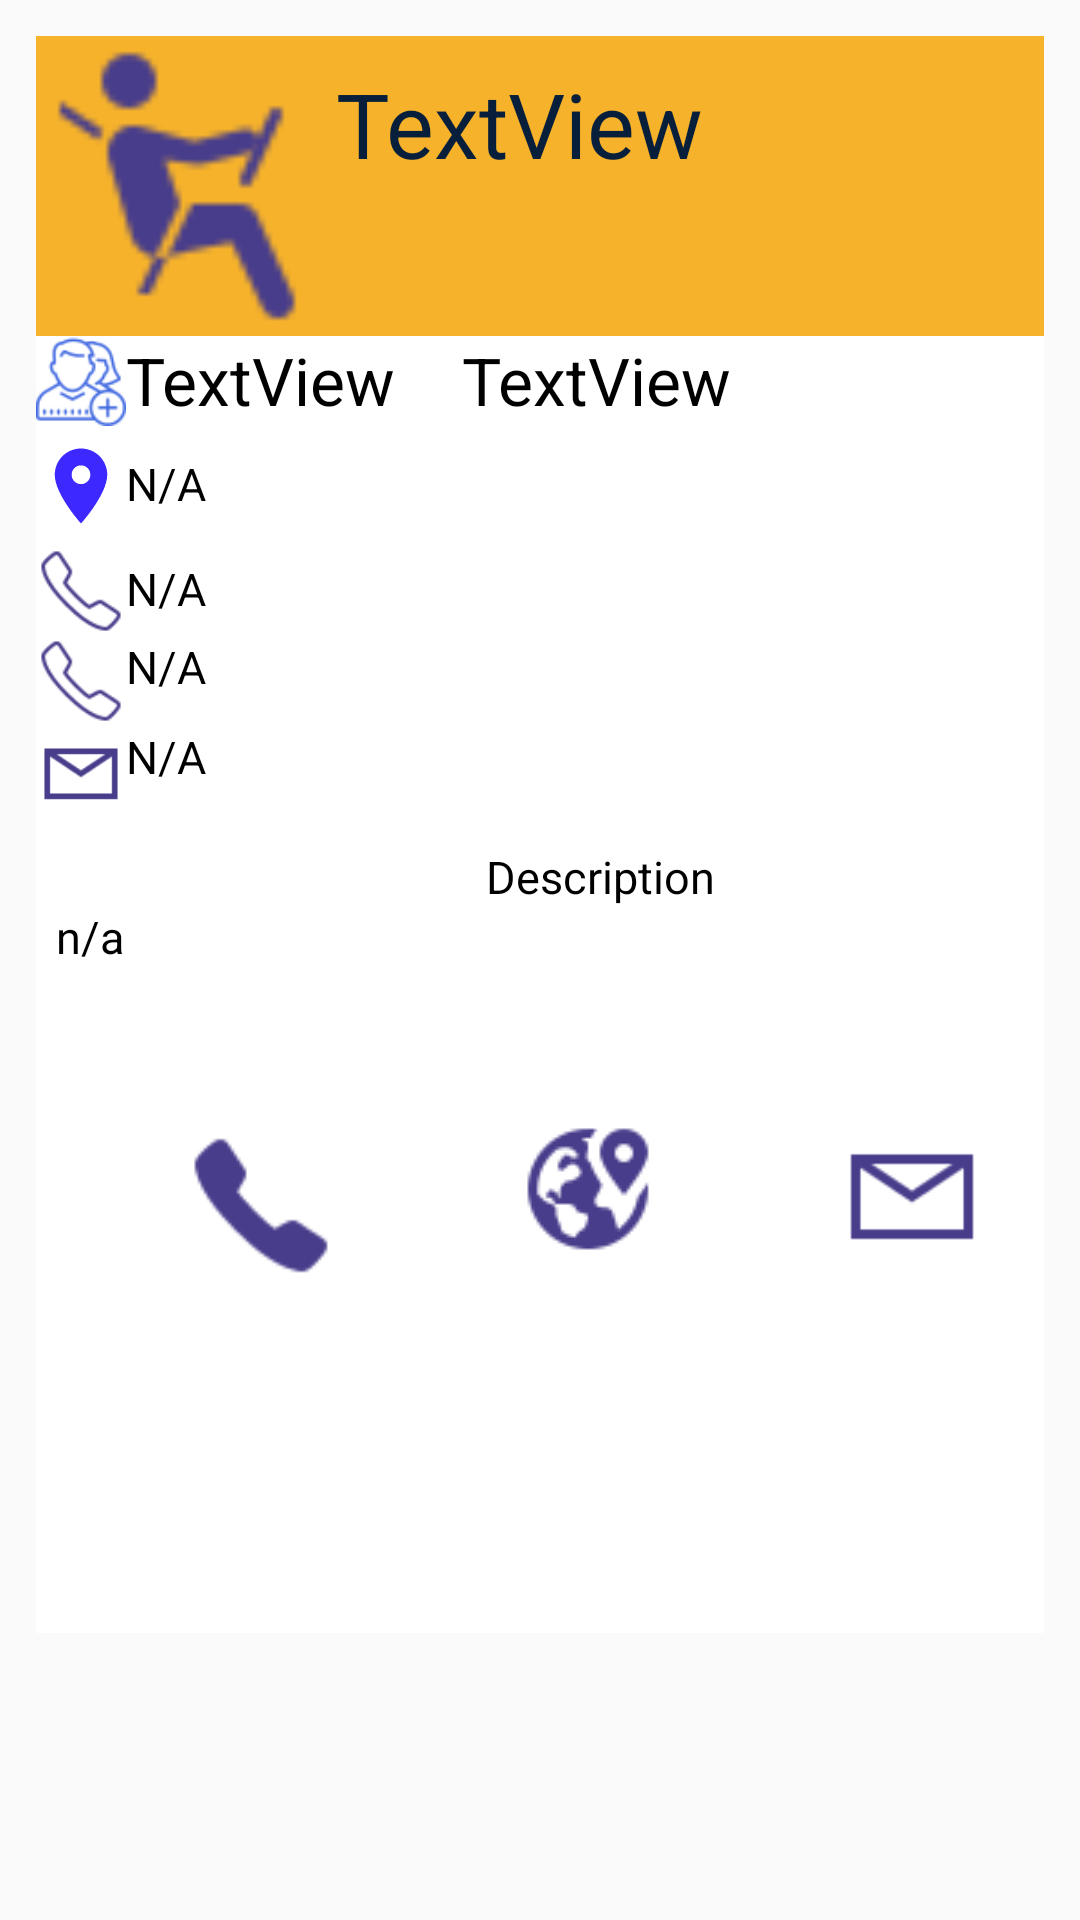

Icon bounding boxes for this 1080*1920 phone screenshot, format (x1, y1, x2, y2):
driving: (36, 36, 336, 336)
emails: (44, 748, 118, 800), (850, 1154, 974, 1240)
location on: (54, 448, 108, 523)
locationcurrent: (527, 1128, 649, 1250)
phone: (194, 1138, 328, 1273)
phones: (41, 551, 121, 631), (41, 641, 121, 721)
users: (36, 337, 126, 426)
